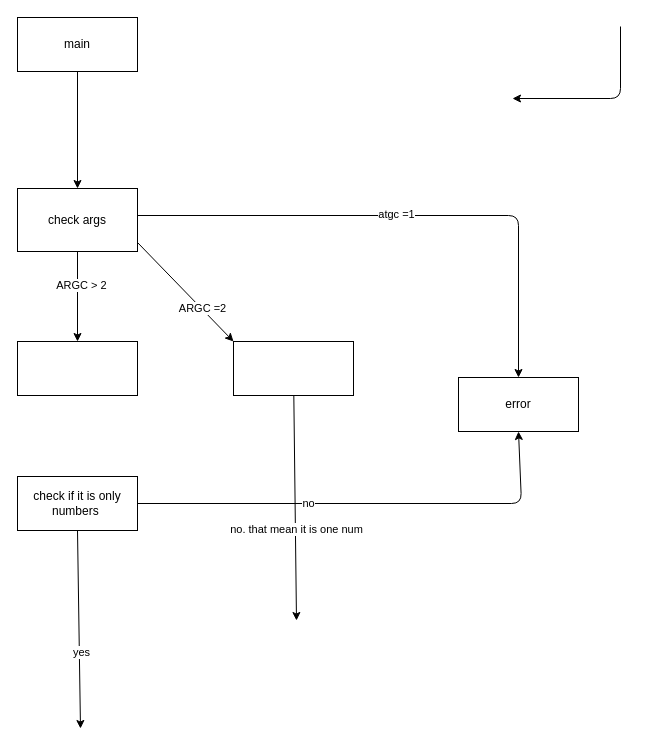
The diagram is 646 pixels wide and 754 high, and some of its shapes have lost their labels. The centre of each missing label's shape, as x and y in pixels:
check if has space: [293,368]
make it: [77,368]
